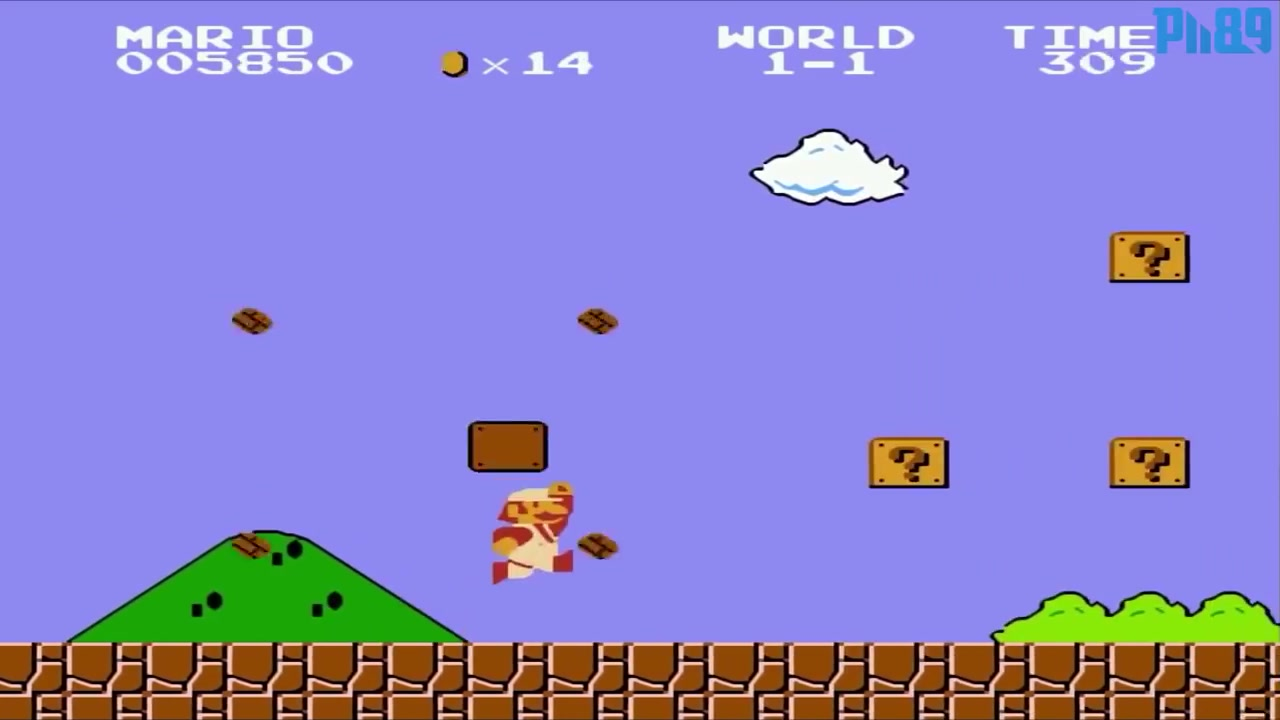mario: (487, 475, 583, 595)
